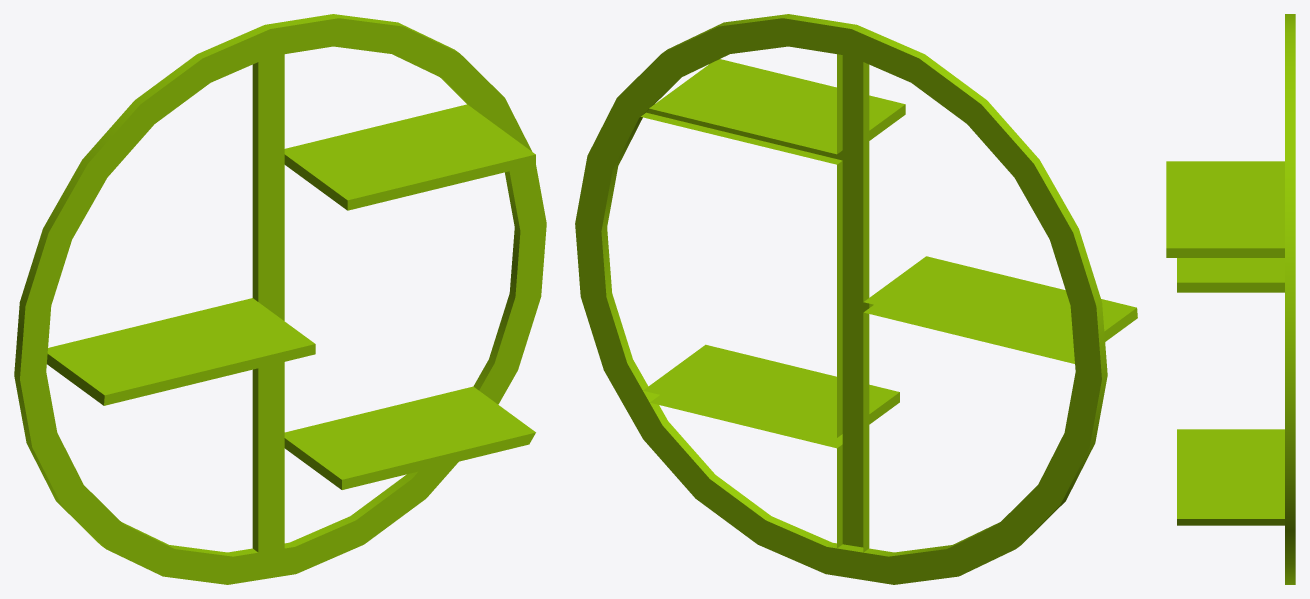
The picture shows the model from 3 angles, left to right: view 1: azimuth 30°, elevation 25°; view 2: azimuth 150°, elevation 25°; view 3: azimuth 270°, elevation 25°; orthographic projection. The views are drawn at different scales.
Visible parts, largest first — view 1: 30965; view 2: 30965; view 3: 30965.
Part boxes in pixels (left/top/right/bottom): 30965: left=14, top=14, right=546, bottom=584; 30965: left=575, top=14, right=1137, bottom=584; 30965: left=1166, top=14, right=1295, bottom=584.
Bounding box in the file's own units: 0.799 × 0.799 × 0.18.
